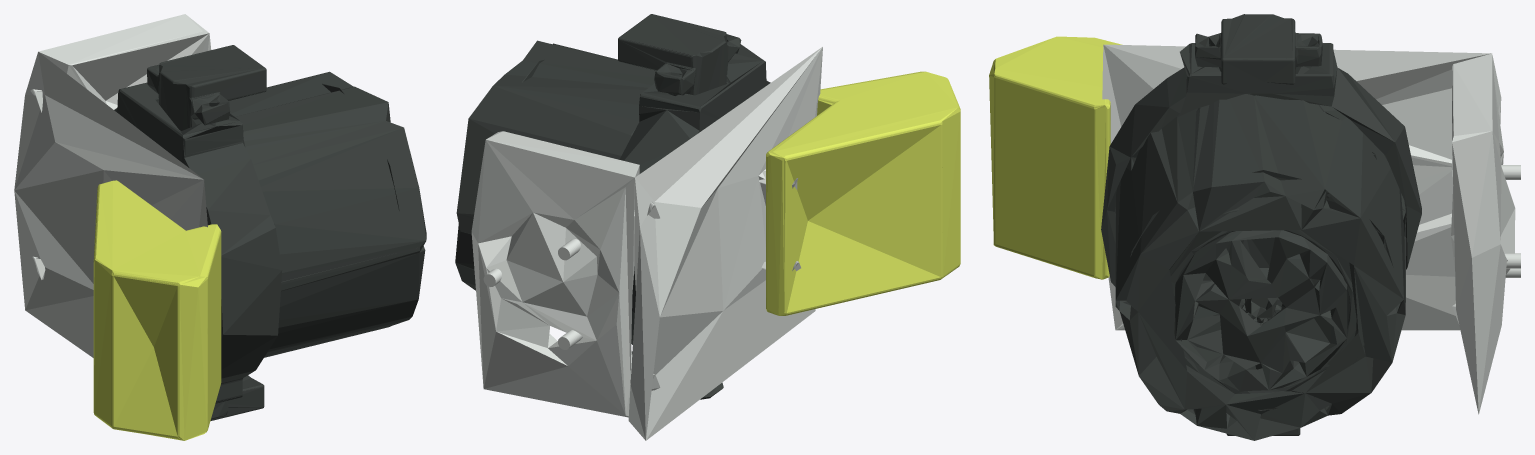
The picture shows the model from 3 angles, left to right: view 1: azimuth 30°, elevation 25°; view 2: azimuth 150°, elevation 25°; view 3: azimuth 270°, elevation 25°; orthographic projection. The views are drawn at different scales.
Visible parts, largest first — view 1: motor_6, cnc5, pla5_green; view 2: cnc5, pla5_green, motor_6; view 3: motor_6, cnc5, pla5_green.
Boxes of the visible parts, box(x1,y1,x2,y2) form: motor_6: box(114, 45, 426, 420); cnc5: box(14, 14, 211, 357); pla5_green: box(93, 180, 221, 440); cnc5: box(471, 47, 822, 440); pla5_green: box(766, 71, 960, 315); motor_6: box(455, 14, 770, 399); motor_6: box(1101, 14, 1421, 440); cnc5: box(1102, 44, 1520, 414); pla5_green: box(989, 36, 1122, 279).
Bounding box in the file's own units: 0.0885 × 0.0818 × 0.1043.
